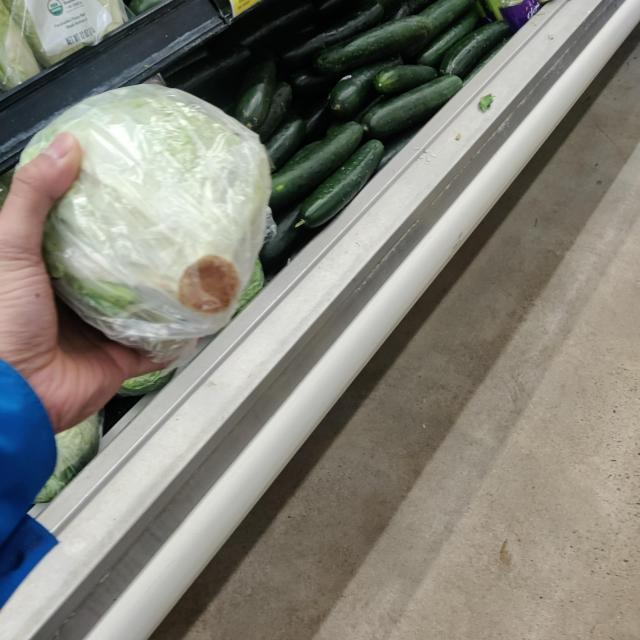Cucumber: (299, 139, 383, 230), (310, 14, 432, 75), (362, 74, 466, 136), (441, 21, 513, 80), (372, 64, 440, 92)
Lettuce: (37, 86, 285, 342)
